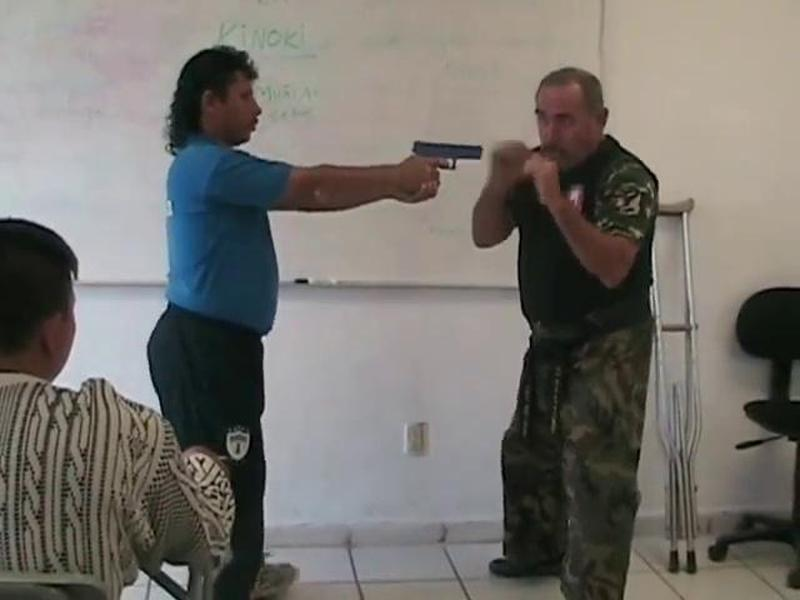Pistola: (387, 134, 493, 211)
